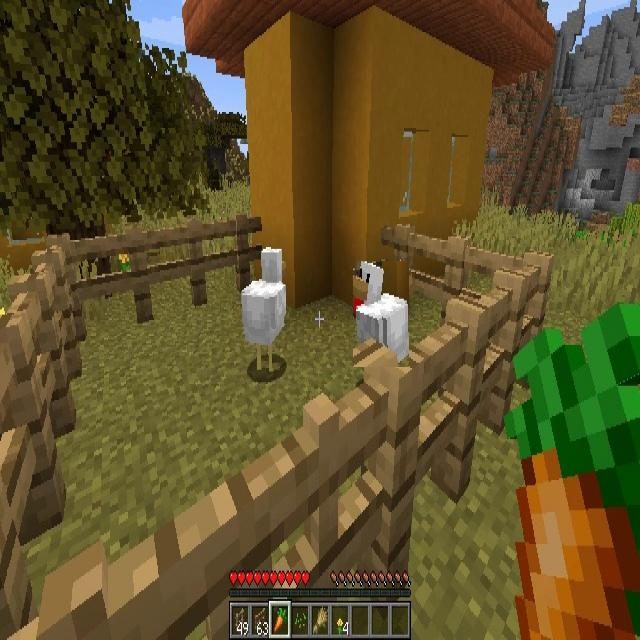duck: (353, 261, 409, 367), (244, 253, 286, 369)
